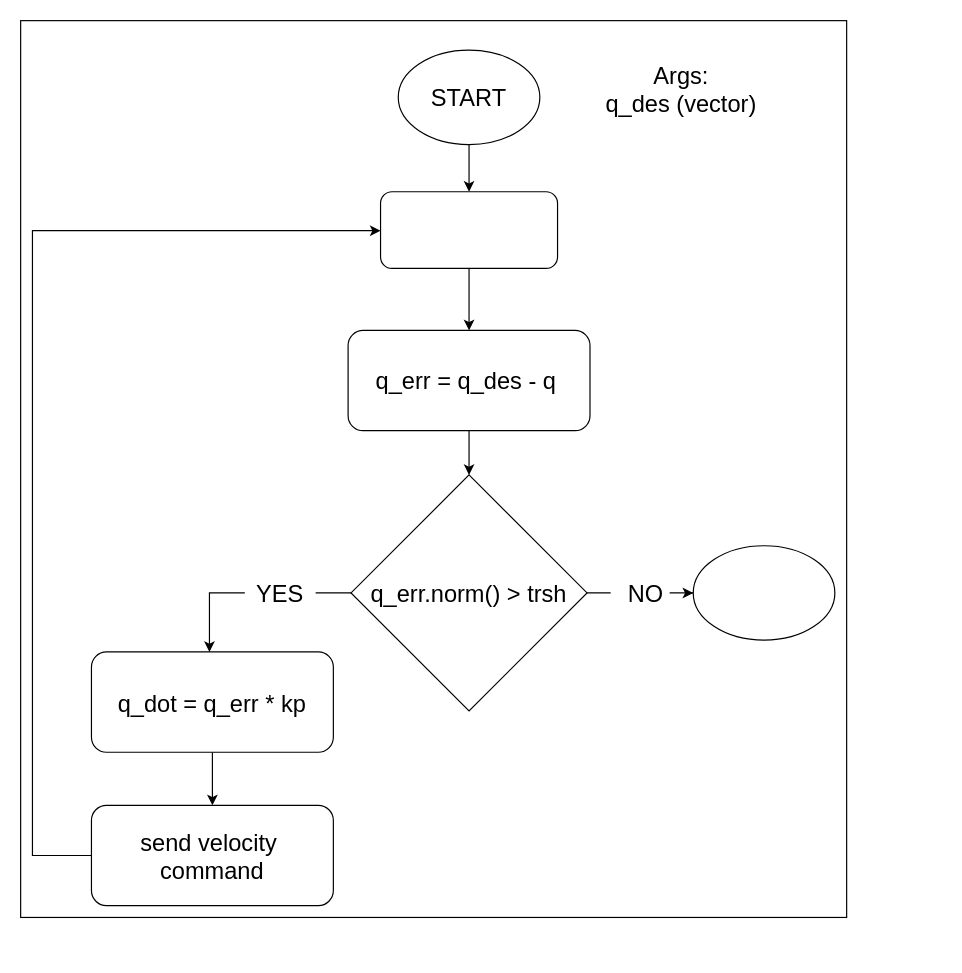
Image size: 962x973. Some labels were removed from this diagram. The centre of each missing label's shape, as x and y in pixels:
"END" goes at (x=763, y=592).
"retrive q joint variables" goes at (x=468, y=229).
